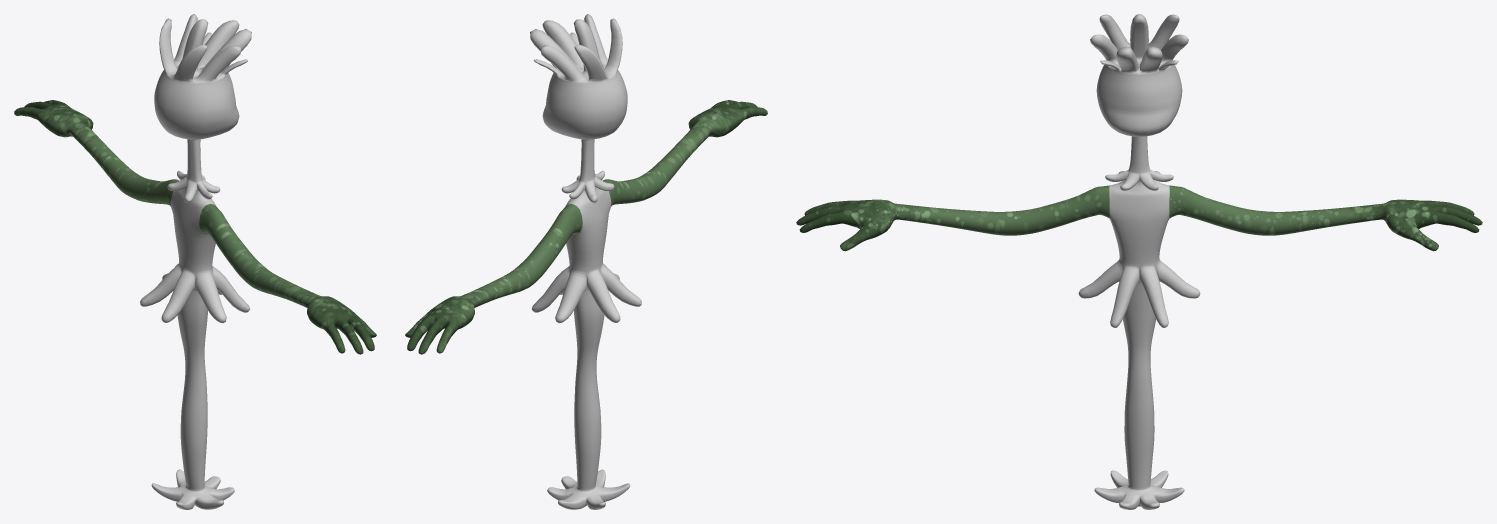
The model's file is IvyVine_FBX.fbx.
The picture shows the model from 3 angles, left to right: view 1: azimuth 30°, elevation 25°; view 2: azimuth 150°, elevation 25°; view 3: azimuth 270°, elevation 25°; orthographic projection. The views are drawn at different scales.
Parts seen in each view (by area): view 1: IvyVine_Model; view 2: IvyVine_Model; view 3: IvyVine_Model.
Boxes of the visible parts, <box> form: IvyVine_Model: <box>14,14,376,509</box>; IvyVine_Model: <box>405,14,767,509</box>; IvyVine_Model: <box>796,14,1482,509</box>.
Size of the model in its own units: 11.75 by 57.73 by 73.41.
